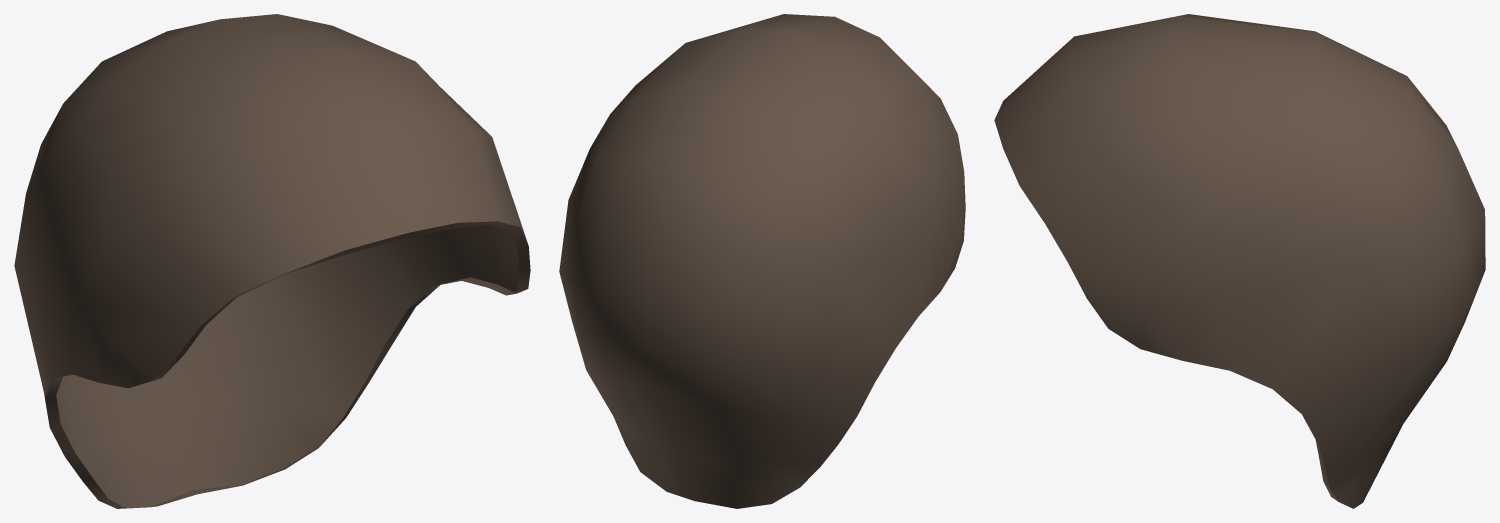
Rendered from hair_m2.glb.
3 renders of one model, left to right at view 1: azimuth 30°, elevation 25°; view 2: azimuth 150°, elevation 25°; view 3: azimuth 270°, elevation 25°, orthographic. The views are drawn at different scales.
Visible parts, largest first — view 1: Hair_m2; view 2: Hair_m2; view 3: Hair_m2.
Part boxes in pixels (x1=…): Hair_m2: x1=14, y1=14, x2=530, y2=508; Hair_m2: x1=559, y1=14, x2=965, y2=508; Hair_m2: x1=994, y1=14, x2=1485, y2=508.
Bounding box in the file's own units: 0.1827 × 0.2208 × 0.2182.
